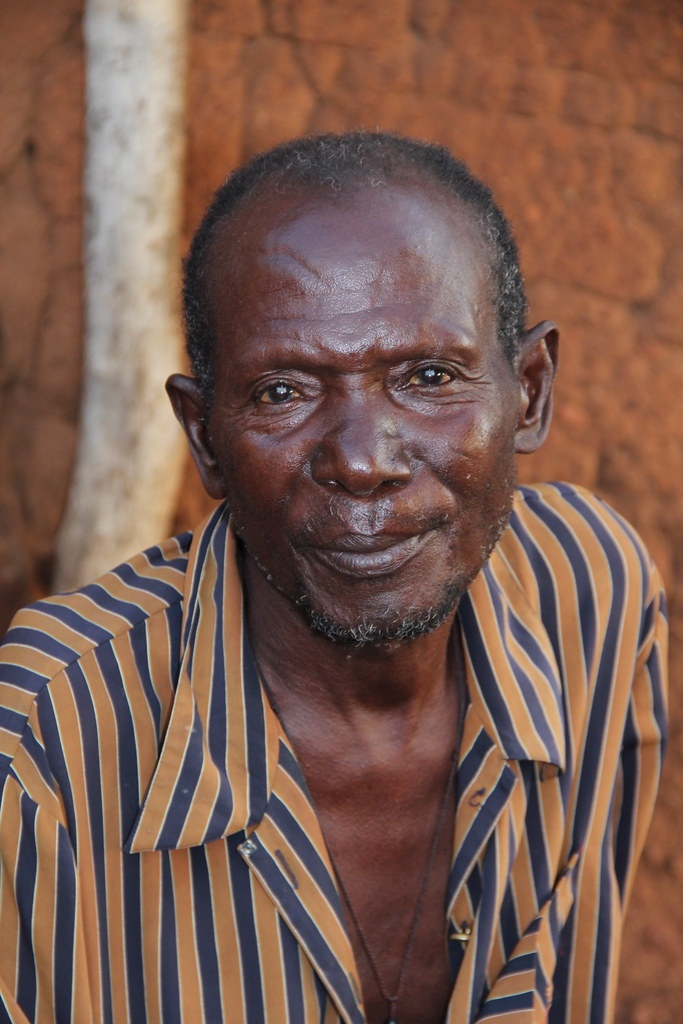without_mask: (163, 159, 562, 636)
